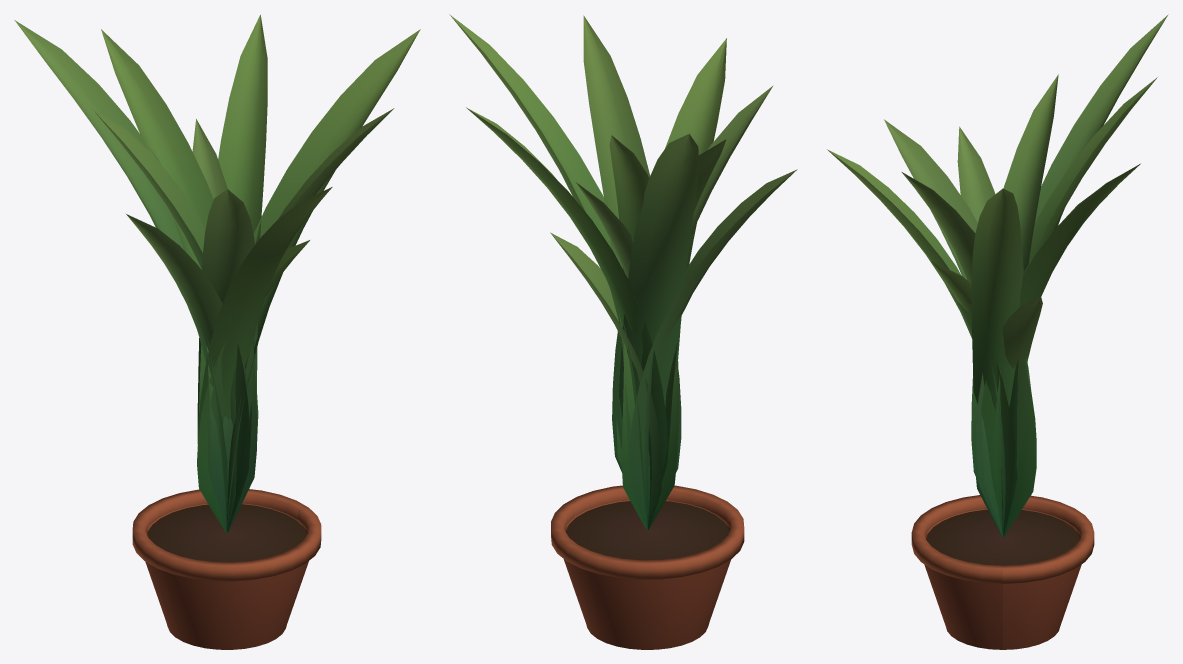
The model's file is espada-sao-jorge.glb.
3 views of the same model, side by side, from view 1: azimuth 30°, elevation 25°; view 2: azimuth 150°, elevation 25°; view 3: azimuth 270°, elevation 25° (orthographic). The views are drawn at different scales.
Visible parts, largest first — view 1: espada-sao-jorge; view 2: espada-sao-jorge; view 3: espada-sao-jorge.
Part boxes in pixels (x1,y1,x2,y2): espada-sao-jorge: [14, 14, 420, 649]; espada-sao-jorge: [449, 14, 797, 649]; espada-sao-jorge: [827, 14, 1168, 649].
Size of the model in its own units: 0.3109 by 0.5309 by 0.2986.
